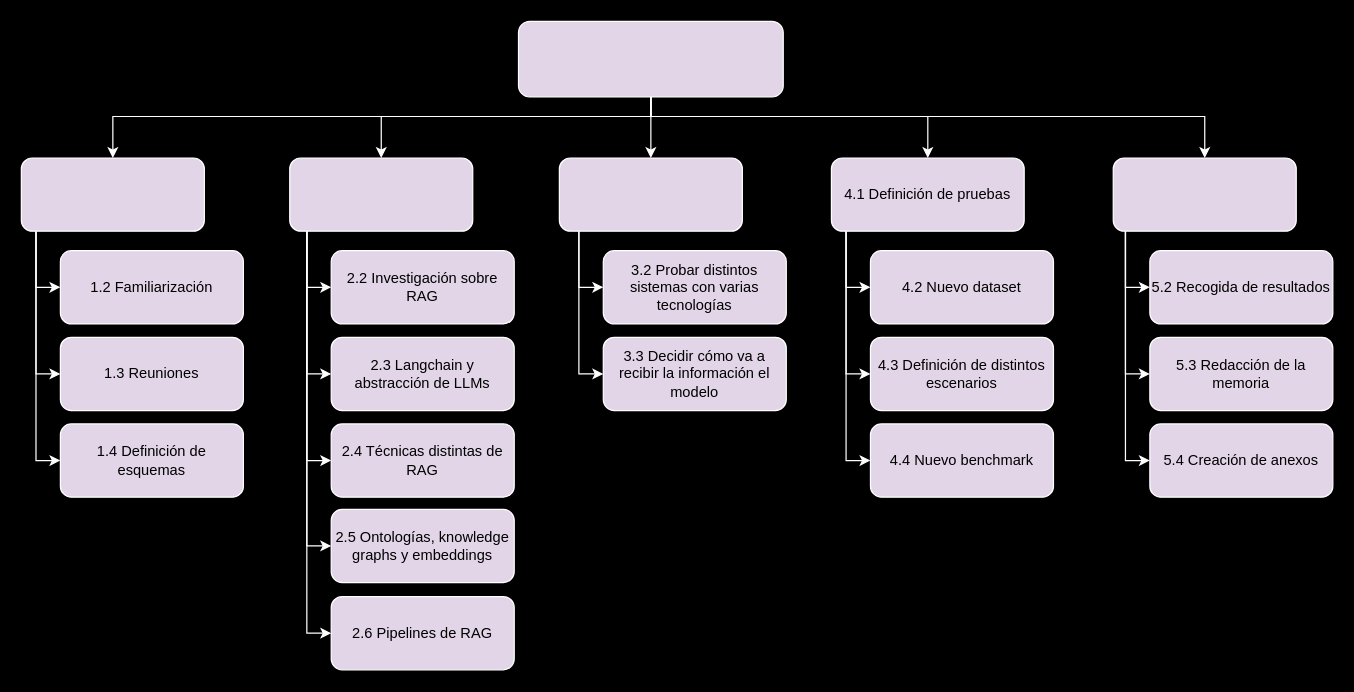
Some shapes in this 1354 by 692 pixel diagram are drawn without their labels. Each missing label, with the centre of its shape:
1.1 Gestión: the point at 112,194
2.1 Investigación: the point at 381,194
3.1 Idear sistemas RAG: the point at 650,194
5.1 Documentación: the point at 1204,194
Trabajo de Fin de Grado: the point at 650,58
